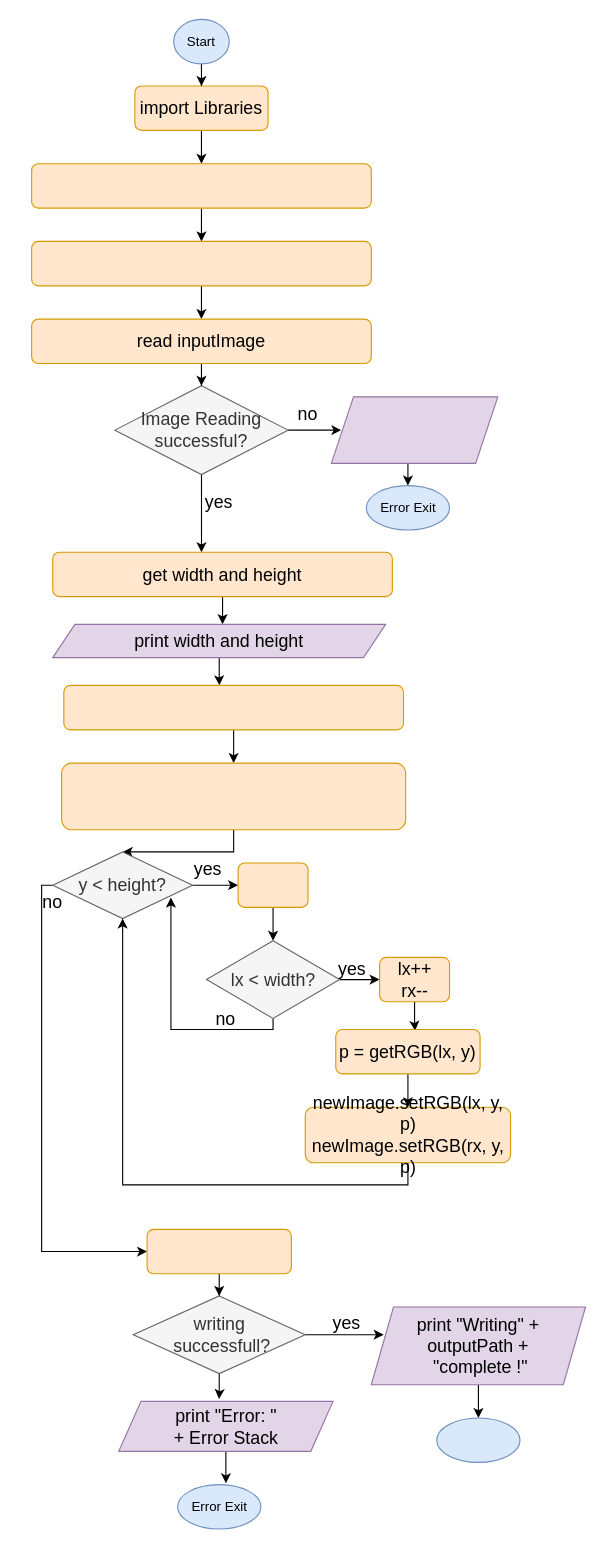
Image size: 605x1548. Some labels were removed from this diagram. The centre of each missing label's shape, as x and y in pixels:
"define new BufferedImage newImage" goes at (x=233, y=707).
"define y = width define lx = 0 define rx = width*2 -1" goes at (x=233, y=796).
"inputPath = img/Doctor_Strange.png" goes at (x=201, y=185).
"outputPath = img/Doctor_Strange-spiegel.png" goes at (x=201, y=263).
"Print Error Message + Stack" goes at (x=414, y=429).
"Success Exit" goes at (x=478, y=1439).
"write newImage" goes at (x=218, y=1251).
"y++" goes at (x=272, y=884).
